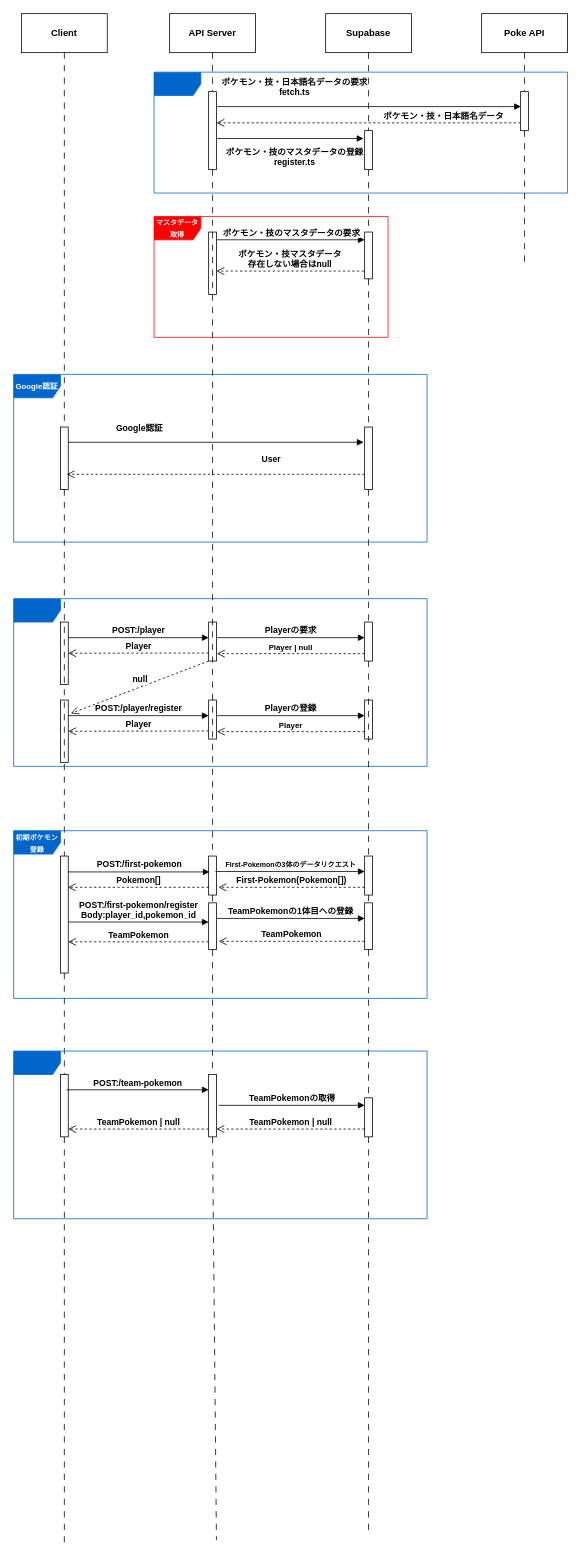
The diagram is 581 pixels wide and 1560 high, and some of its shapes have lost their labels. Each missing label, with the box of its shape:
Player登録・取得: (13, 598, 427, 766)
マスタデータ登録: (153, 71, 567, 193)
手持ちポケモン登録: (13, 1050, 427, 1219)
